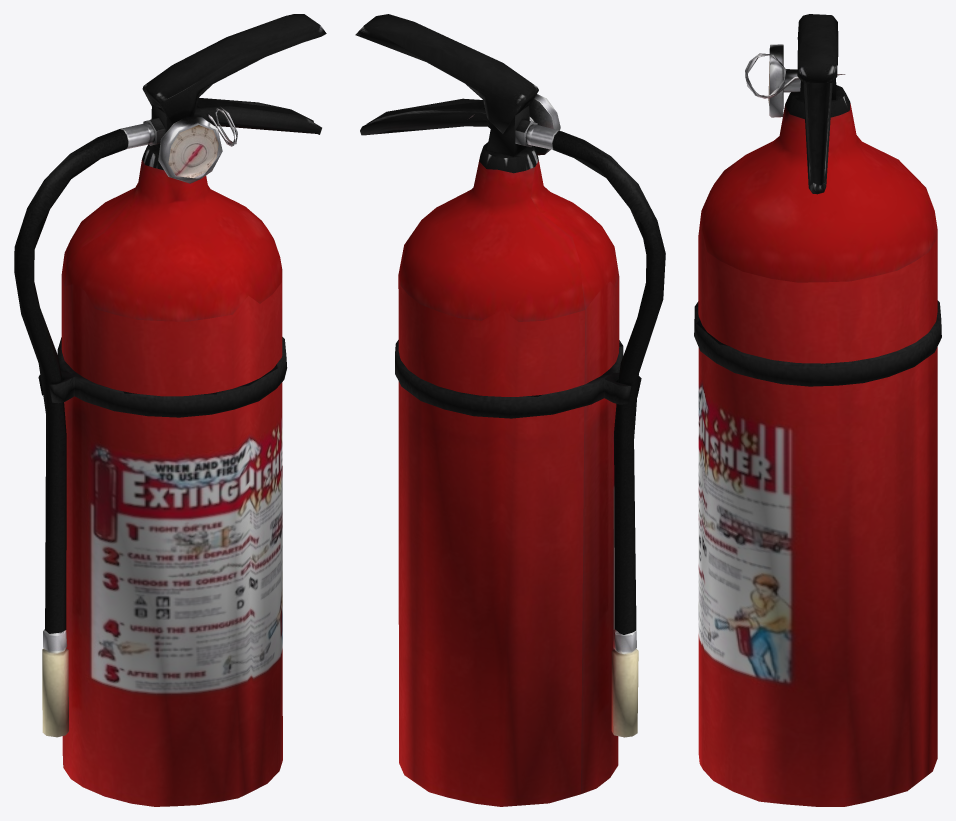
The model's file is fire_extinguisher.dae.
3 renders of one model, left to right at view 1: azimuth 30°, elevation 25°; view 2: azimuth 150°, elevation 25°; view 3: azimuth 270°, elevation 25°, orthographic. The views are drawn at different scales.
Visible parts, largest first — view 1: 10285_Fire Extinguisher_v3_iterations-2; view 2: 10285_Fire Extinguisher_v3_iterations-2; view 3: 10285_Fire Extinguisher_v3_iterations-2.
Boxes of the visible parts, x1,y1,x2,y2 form: 10285_Fire Extinguisher_v3_iterations-2: [14, 14, 326, 806]; 10285_Fire Extinguisher_v3_iterations-2: [355, 14, 665, 806]; 10285_Fire Extinguisher_v3_iterations-2: [694, 14, 941, 806].
Bounding box in the file's own units: 0.2026 × 0.1322 × 0.4532.
